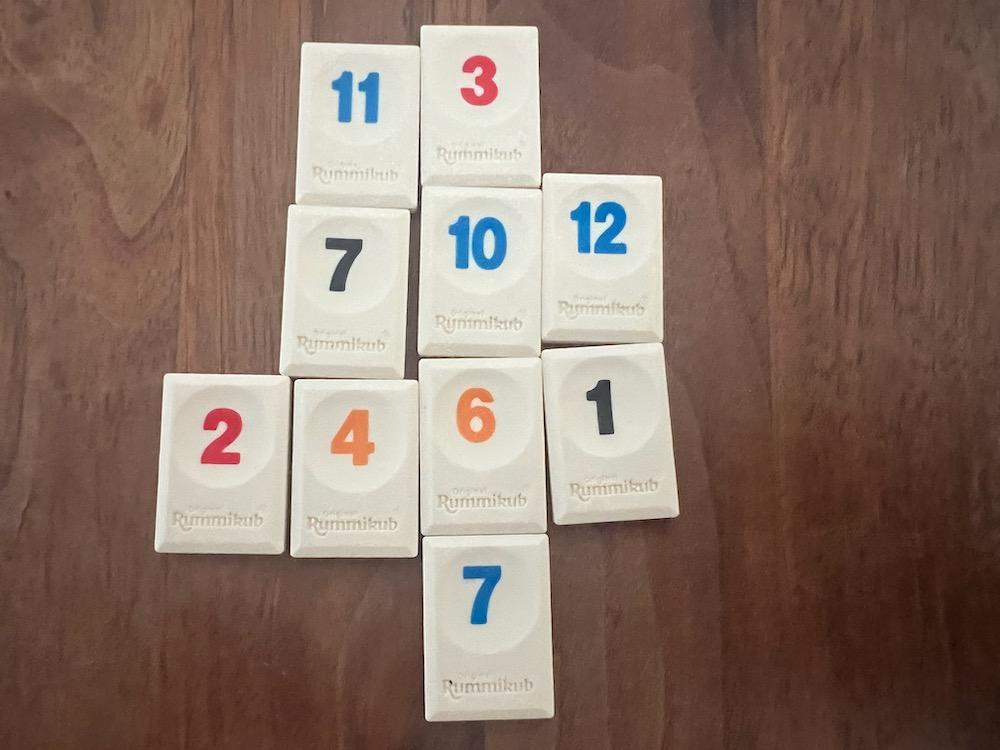black_1: (543, 342, 680, 525)
black_7: (279, 205, 410, 379)
blue_10: (418, 186, 541, 357)
blue_11: (295, 43, 420, 209)
blue_12: (543, 174, 662, 343)
blue_7: (422, 536, 555, 721)
orange_4: (291, 379, 418, 557)
orange_6: (421, 359, 547, 534)
red_2: (154, 375, 291, 555)
red_3: (422, 26, 541, 188)
